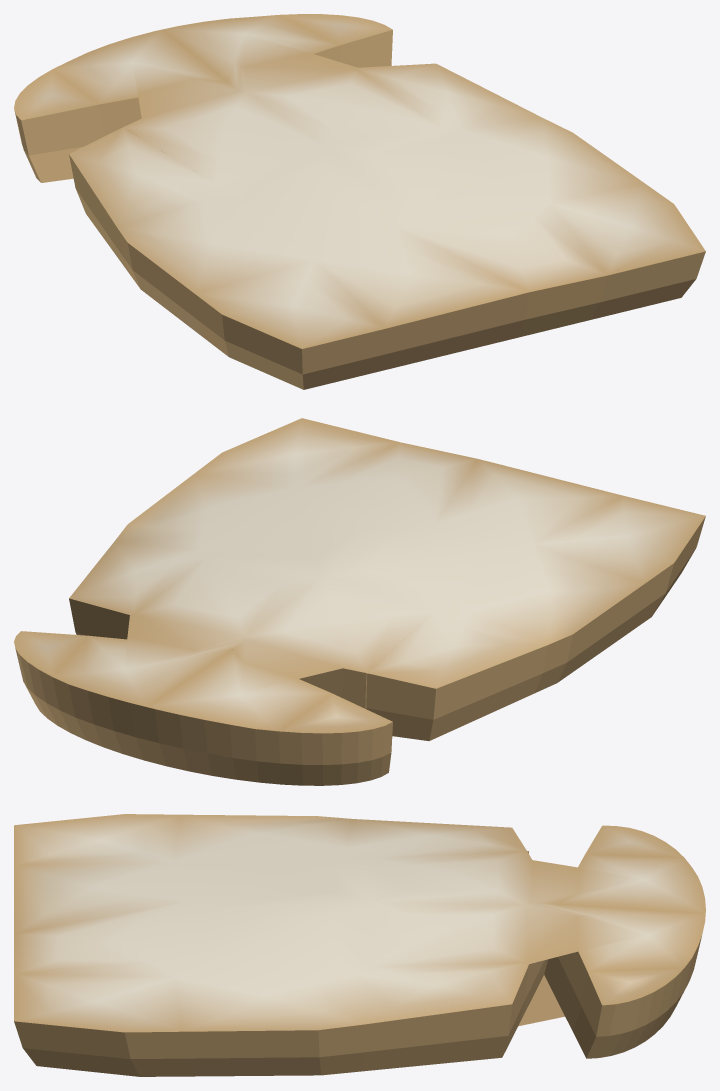
File: bread_chunked.glb
The picture shows the model from 3 angles, top to bottom: view 1: azimuth 30°, elevation 25°; view 2: azimuth 150°, elevation 25°; view 3: azimuth 270°, elevation 25°; orthographic projection.
Parts seen in each view (by area): view 1: BreadChunksMesh; view 2: BreadChunksMesh; view 3: BreadChunksMesh.
Part boxes in pixels (<box>): BreadChunksMesh: <box>14,14,705,389</box>; BreadChunksMesh: <box>14,418,705,785</box>; BreadChunksMesh: <box>14,814,705,1076</box>.
Bounding box in the file's own units: 5.27 × 0.8384 × 7.05.
